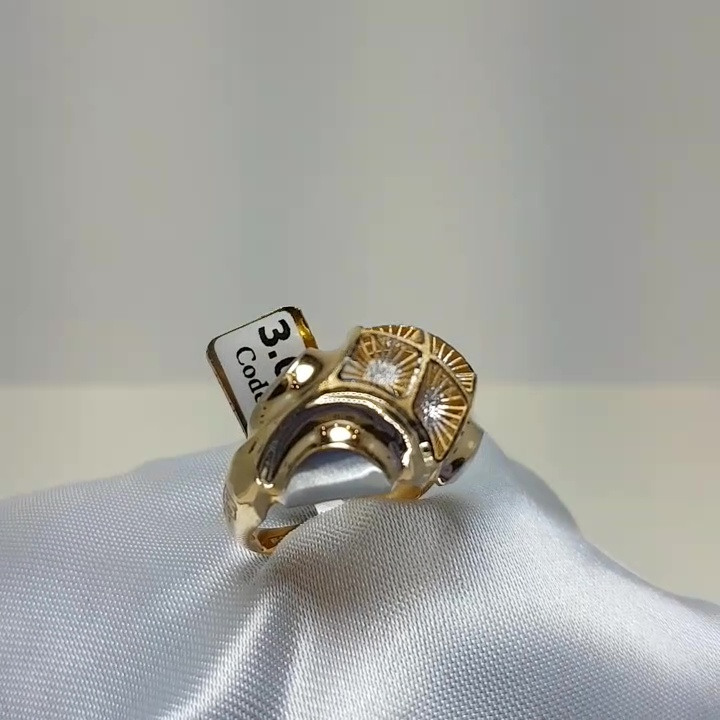Ring 2: (206, 318, 515, 551)
